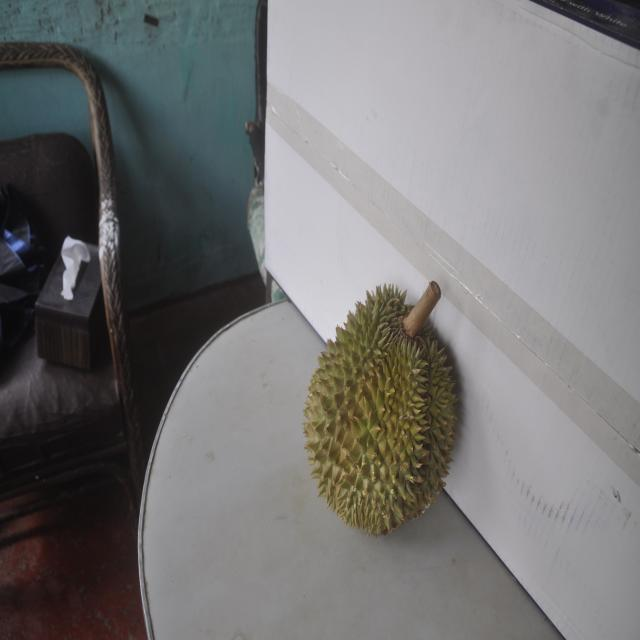mature: (304, 279, 456, 535)
